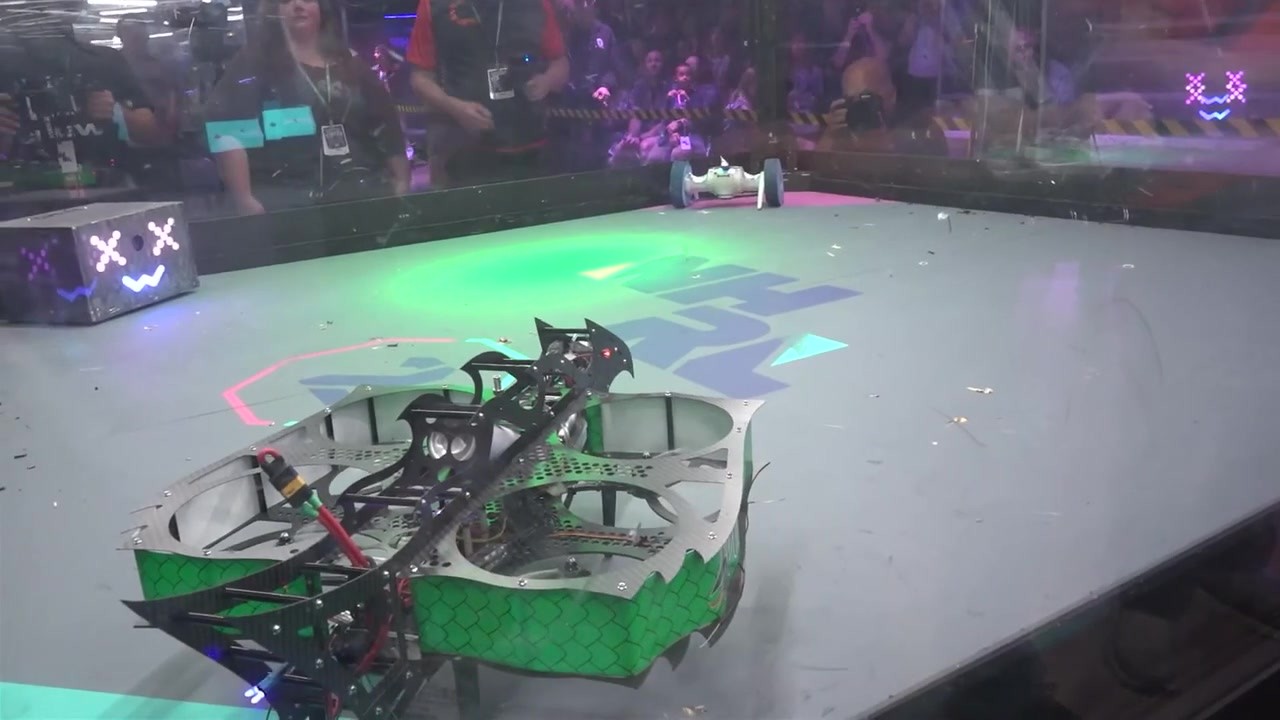combatbot: (672, 157, 785, 211)
housebot: (1, 200, 198, 327)
